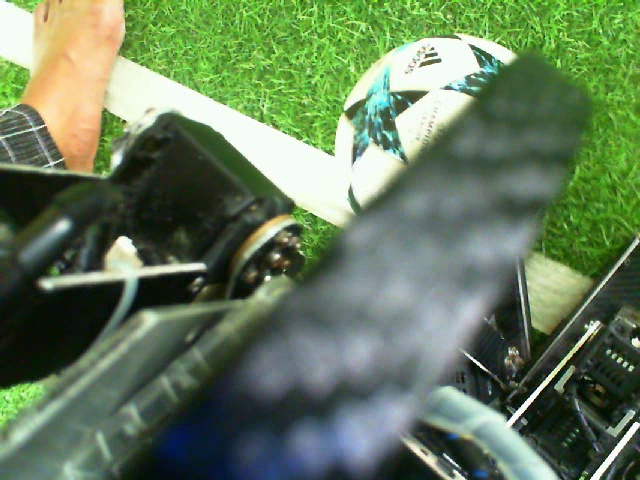ball: (332, 30, 523, 222)
